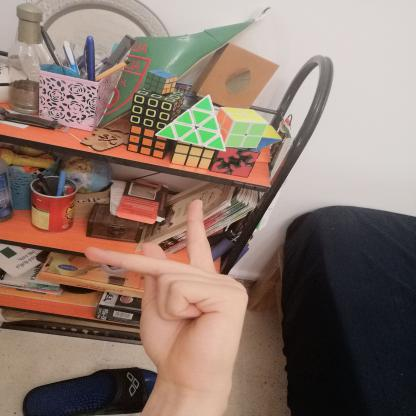DHAA: (73, 188, 258, 404)
